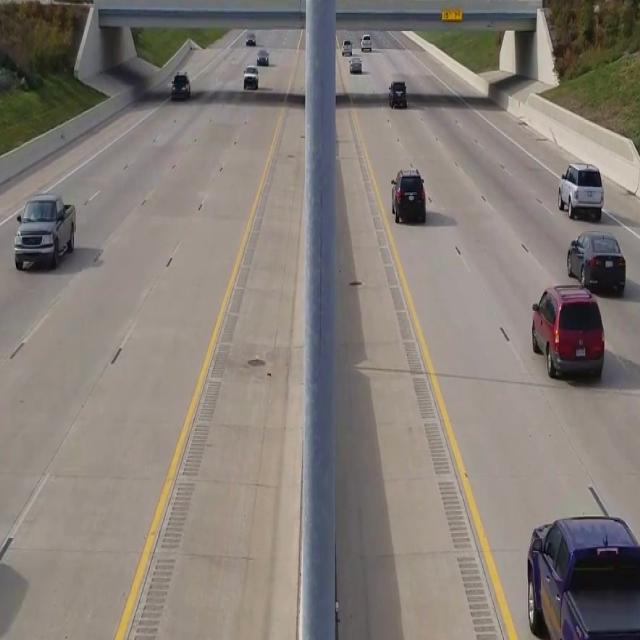car: (526, 515, 640, 640), (530, 281, 604, 381), (13, 194, 76, 271), (567, 231, 626, 295), (558, 161, 603, 222), (390, 168, 426, 223), (170, 71, 191, 99), (389, 79, 406, 108), (242, 65, 258, 89)
